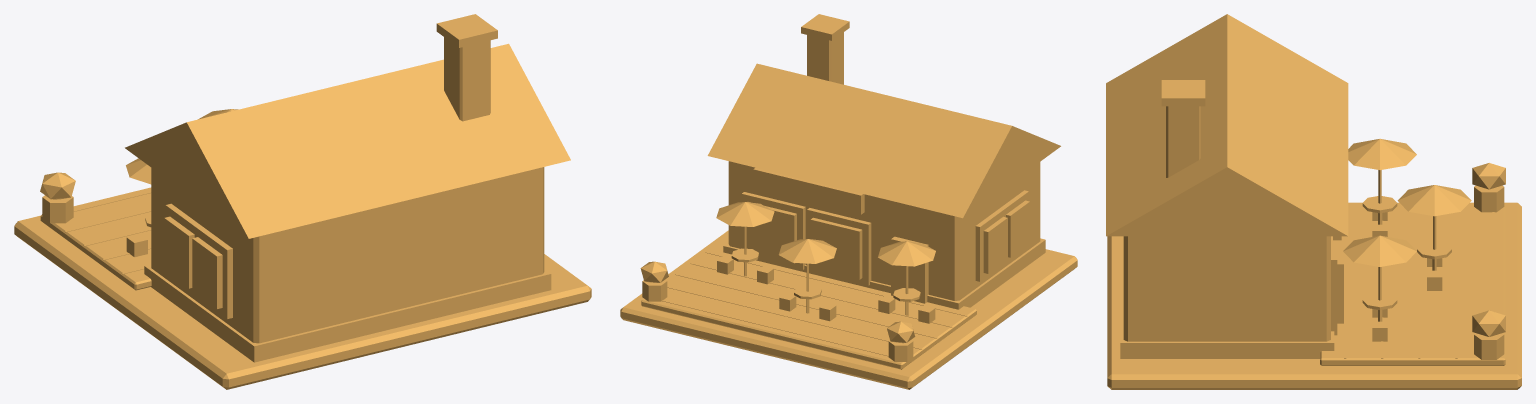
The picture shows the model from 3 angles, left to right: view 1: azimuth 30°, elevation 25°; view 2: azimuth 150°, elevation 25°; view 3: azimuth 270°, elevation 25°; orthographic projection. The views are drawn at different scales.
Parts seen in each view (by area): view 1: corpo; view 2: corpo; view 3: corpo.
Boxes of the visible parts, x1,y1,x2,y2 form: corpo: [14, 14, 591, 389]; corpo: [620, 14, 1077, 389]; corpo: [1106, 14, 1521, 389].
Bounding box in the file's own units: 1.9 × 1.32 × 1.91.
